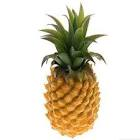Pineapple: (38, 1, 106, 140)
